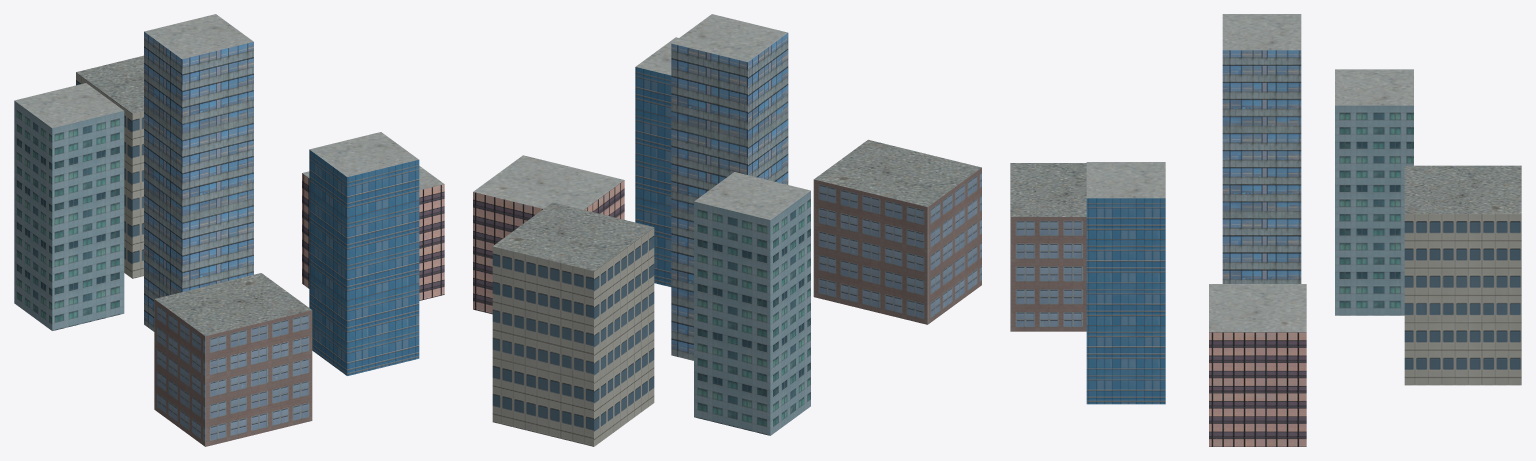
File: duoge_qian_init.FBX
3 views of the same model, side by side, from view 1: azimuth 30°, elevation 25°; view 2: azimuth 150°, elevation 25°; view 3: azimuth 270°, elevation 25° (orthographic). The views are drawn at different scales.
Parts seen in each view (by area): view 1: duoge_qian_init; view 2: duoge_qian_init; view 3: duoge_qian_init.
Part boxes in pixels (x1,y1,x2,y2): duoge_qian_init: (14, 14, 444, 446); duoge_qian_init: (473, 14, 981, 446); duoge_qian_init: (1010, 14, 1521, 446).
Bounding box in the file's own units: 12228 × 10214 × 15599.
